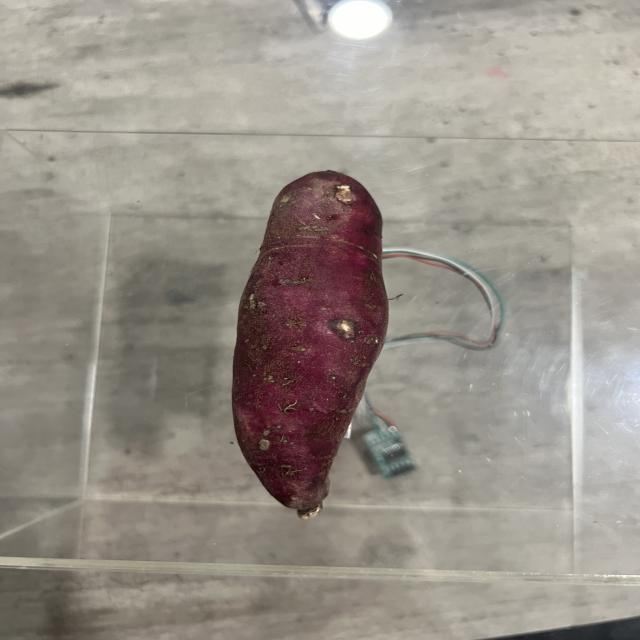sweet potato: (230, 175, 386, 511)
